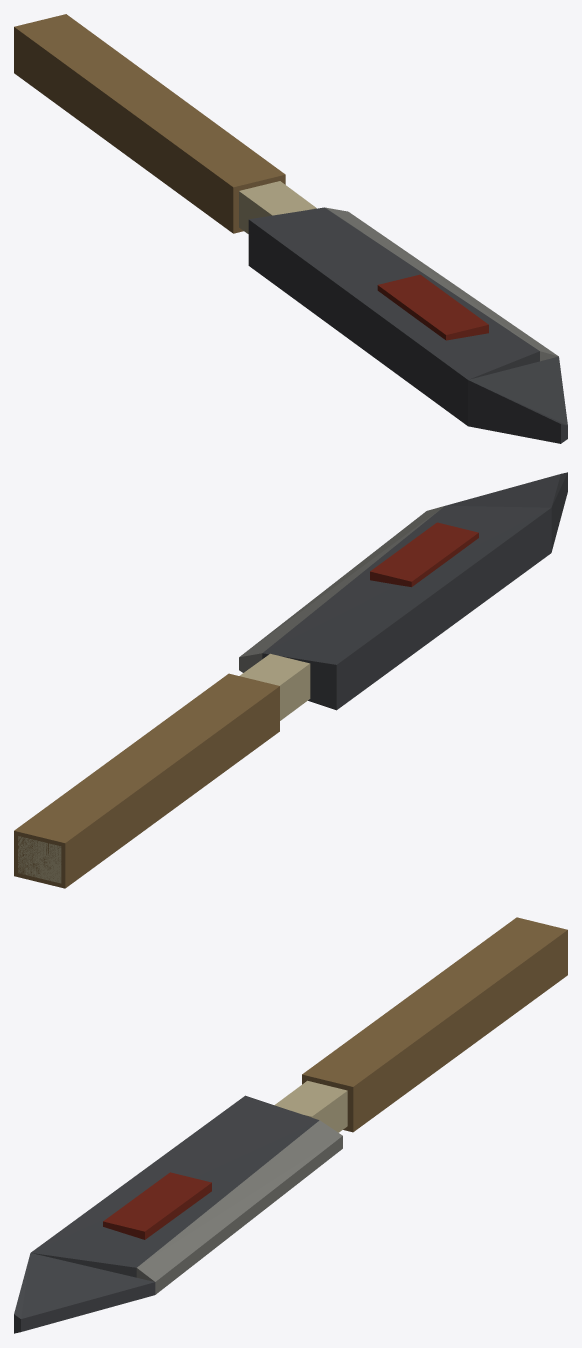
File: nat_shiv.glb
The picture shows the model from 3 angles, top to bottom: view 1: azimuth 30°, elevation 25°; view 2: azimuth 150°, elevation 25°; view 3: azimuth 330°, elevation 25°; orthographic projection. The views are drawn at different scales.
Parts seen in each view (by area): view 1: nat_shiv; view 2: nat_shiv; view 3: nat_shiv.
Boxes of the visible parts, <box> form: nat_shiv: <box>14,14,567,443</box>; nat_shiv: <box>14,472,567,888</box>; nat_shiv: <box>14,917,567,1333</box>.
Bounding box in the file's own units: 0.0345 × 0.016 × 0.29.
